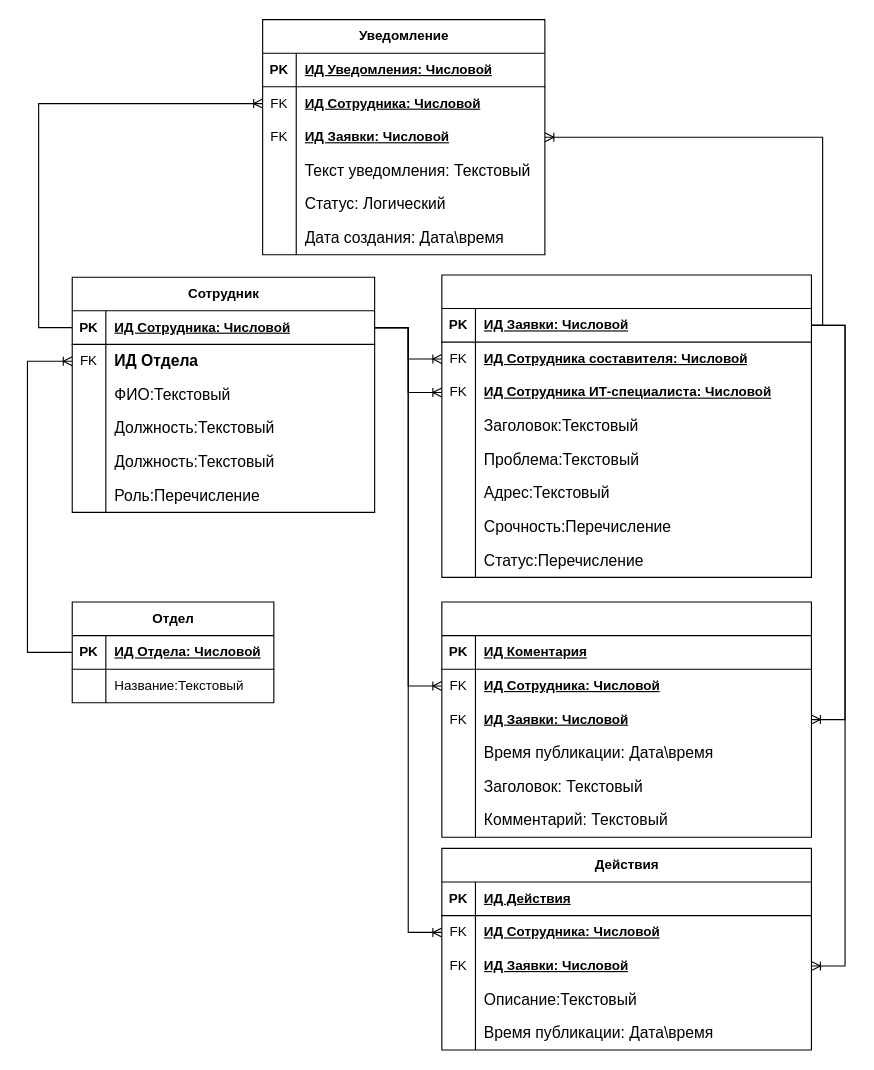
The diagram is 874 pixels wide and 1070 high, and some of its shapes have lost their labels. Here are the shapes that lost their labels. From the top down, the box of each, then its label:
(441, 274, 811, 577): Заявка
(441, 601, 811, 837): Комментарии
